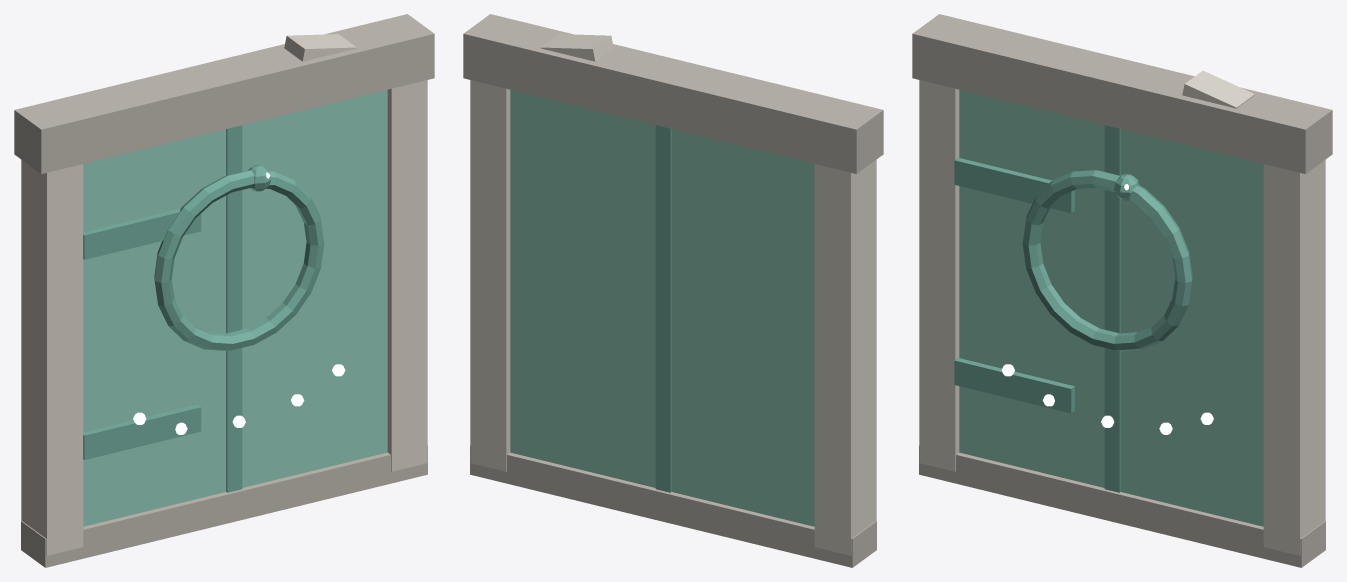
The model's file is warden_door.glb.
3 renders of one model, left to right at view 1: azimuth 30°, elevation 25°; view 2: azimuth 150°, elevation 25°; view 3: azimuth 330°, elevation 25°, orthographic.
Visible parts, largest first — view 1: LeafR, LeafL, Lintel, JambL, JambR, Threshold, Inlay, Seam, Strap-9, Strap9, Chip; view 2: LeafR, LeafL, Lintel, JambL, JambR, Threshold, Seam, Chip; view 3: LeafR, LeafL, Lintel, JambR, JambL, Threshold, Inlay, Seam, Strap-9, Strap9, Chip.
Part boxes in pixels (x1,y1,x2,y2): LeafR: (242, 90, 387, 487); LeafL: (83, 129, 226, 526); Lintel: (14, 14, 434, 173); JambL: (21, 160, 83, 555); JambR: (387, 80, 427, 471); Threshold: (21, 446, 427, 567); Inlay: (154, 170, 324, 350); Seam: (226, 125, 242, 492); Strap-9: (83, 404, 201, 459); Strap9: (83, 208, 201, 259); Chip: (284, 34, 356, 61); LeafR: (510, 90, 655, 487); LeafL: (671, 129, 814, 526); Lintel: (463, 14, 883, 173); JambL: (814, 160, 876, 555); JambR: (470, 80, 510, 471); Threshold: (470, 446, 876, 567); Seam: (655, 125, 671, 492); Chip: (541, 34, 613, 61); LeafR: (1120, 129, 1263, 526); LeafL: (959, 90, 1104, 487); Lintel: (912, 14, 1332, 173); JambR: (1263, 160, 1325, 555); JambL: (919, 80, 959, 471); Threshold: (919, 446, 1325, 567); Inlay: (1022, 170, 1192, 350); Seam: (1104, 125, 1120, 492); Strap-9: (954, 358, 1074, 413); Strap9: (954, 157, 1074, 212); Chip: (1182, 70, 1254, 108).
Size of the model in its own units: 3.7 by 4.07 by 0.57.
